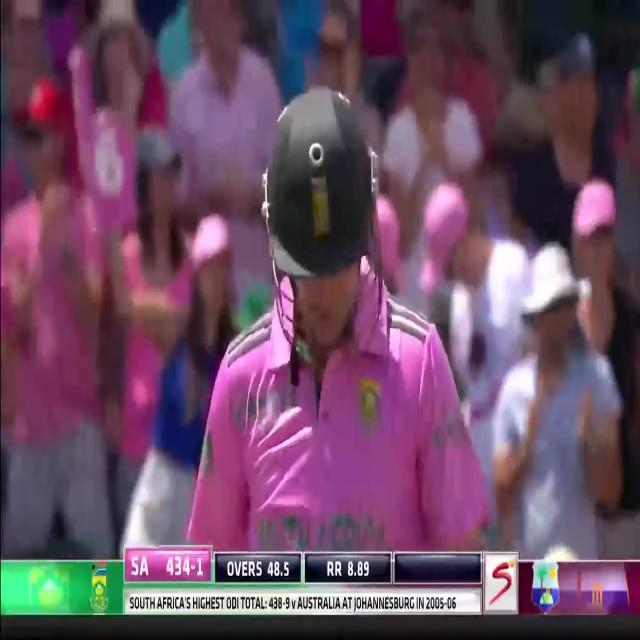Ball: (184, 65, 497, 554)
